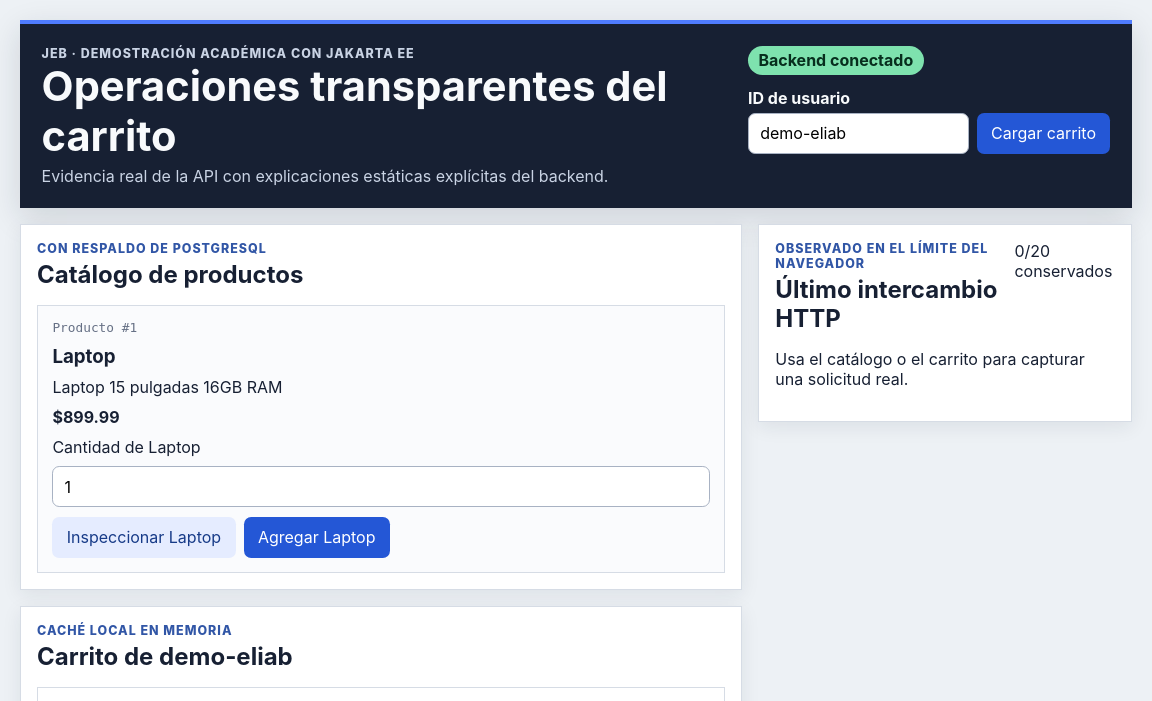
CartDemo › keeps loaded catalog data visible after a later catalog-independent error
Expected: the heading "Laptop" is shown, [52,345,116,368]
Click the button "Inspeccionar Laptop": (144, 537) [52,517,236,558]
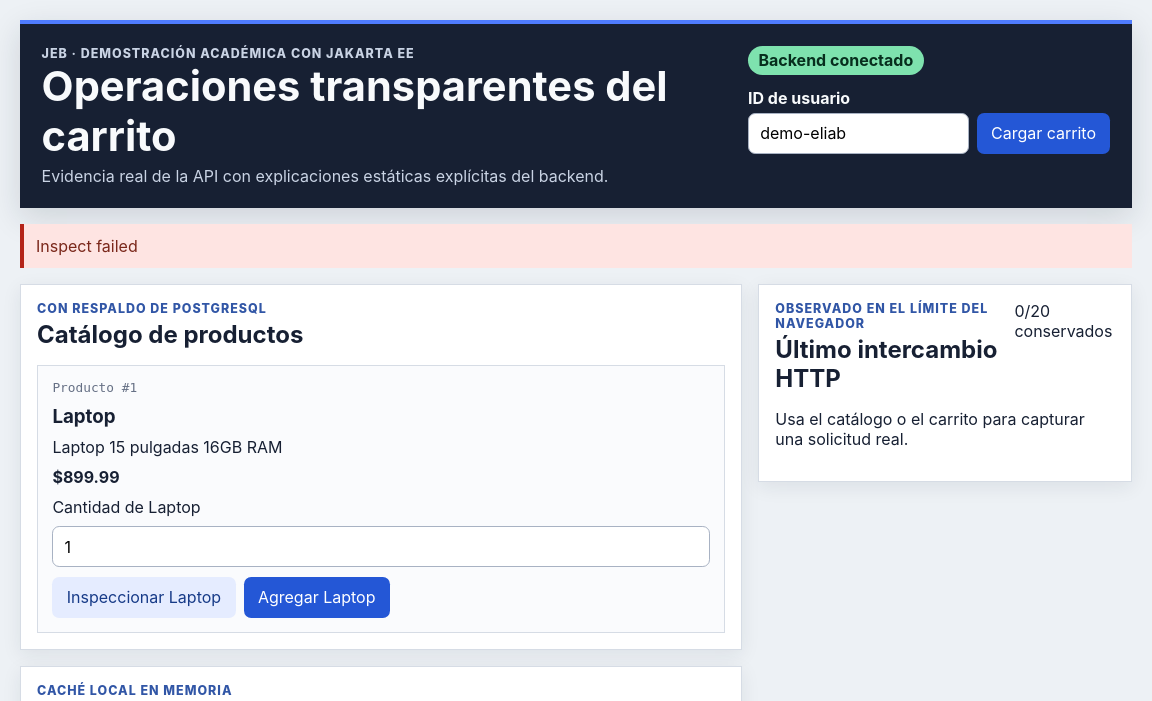
Expected: the heading "Laptop" is shown, [52,405,116,428]
Now the text "Inspect failed" is shown, box [20,224,1132,268]
